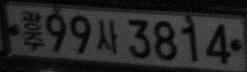1: (180, 21, 202, 63)
3: (127, 18, 151, 59)
4: (206, 23, 230, 65)
8: (153, 19, 177, 61)
9: (68, 14, 91, 54), (45, 12, 67, 52)
광주_V: (20, 9, 45, 51)
사: (96, 19, 118, 54)
